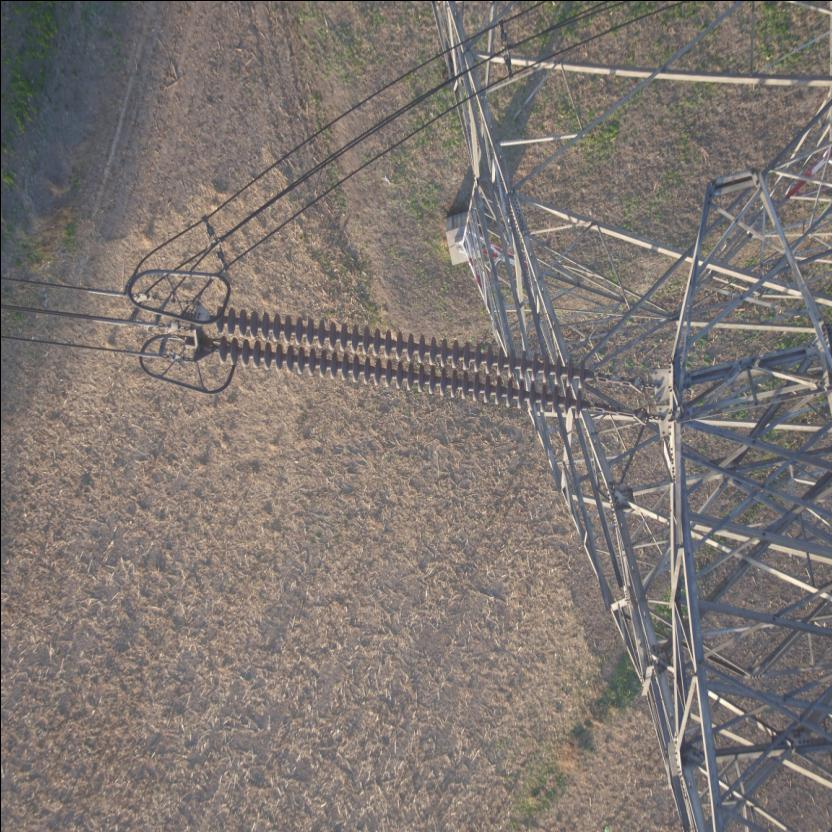insulator: (201, 302, 621, 421)
